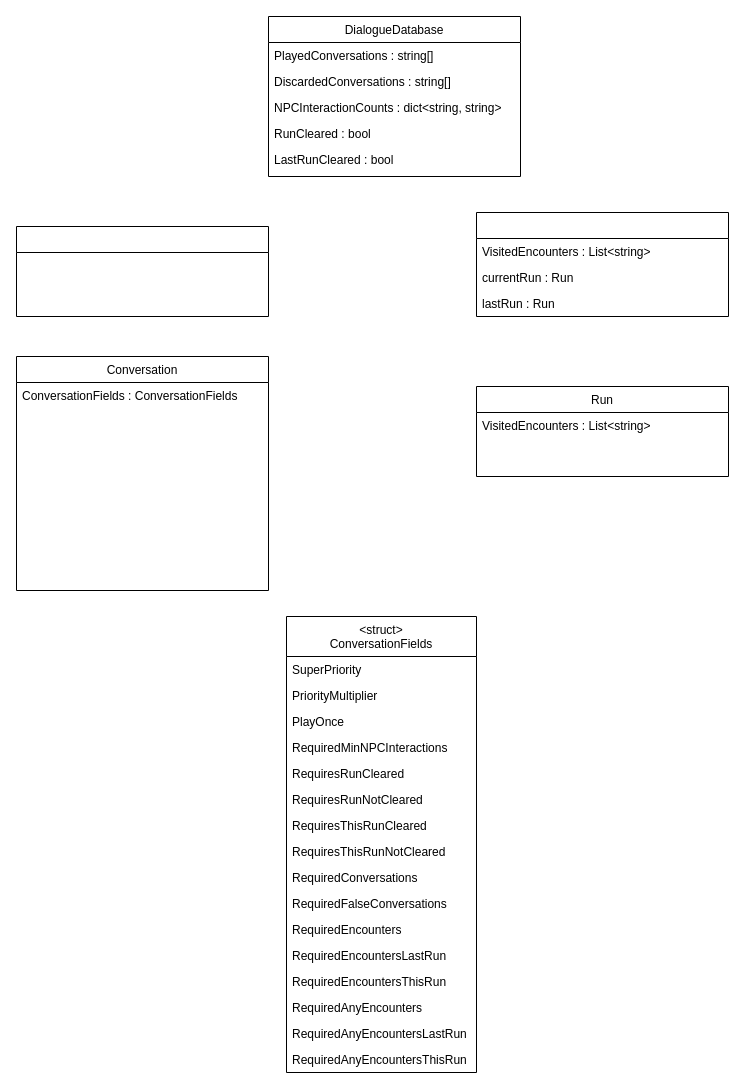
Image size: 745x1089. Some labels were removed from this diagram. Each missing label, with the box of its shape:
HubNPCManager: (16, 226, 268, 316)
RunManager: (476, 212, 728, 316)
